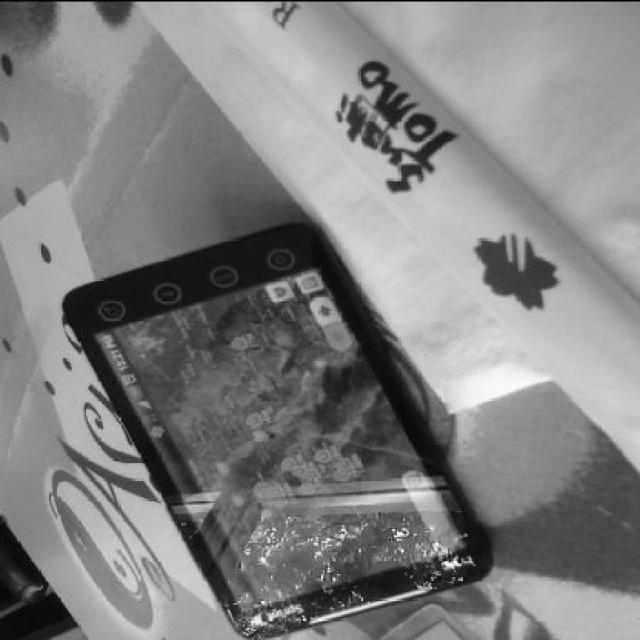fake: (57, 203, 488, 640)
